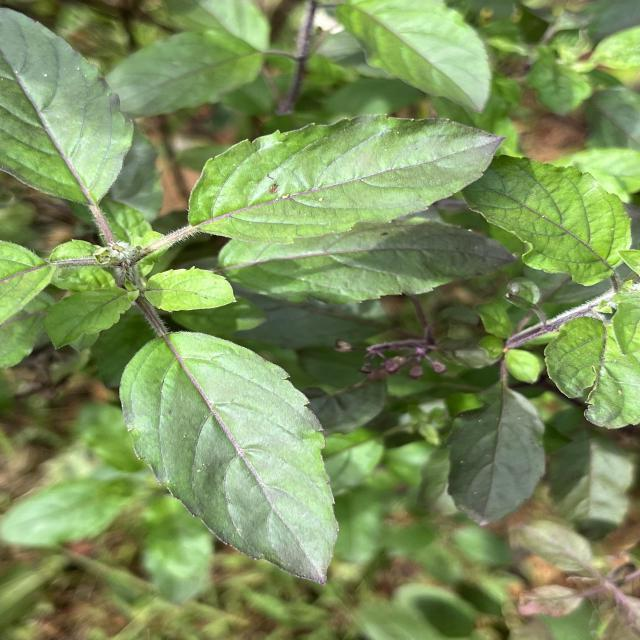Ocimum tenuiflorum: (115, 330, 341, 588), (183, 111, 508, 248)
